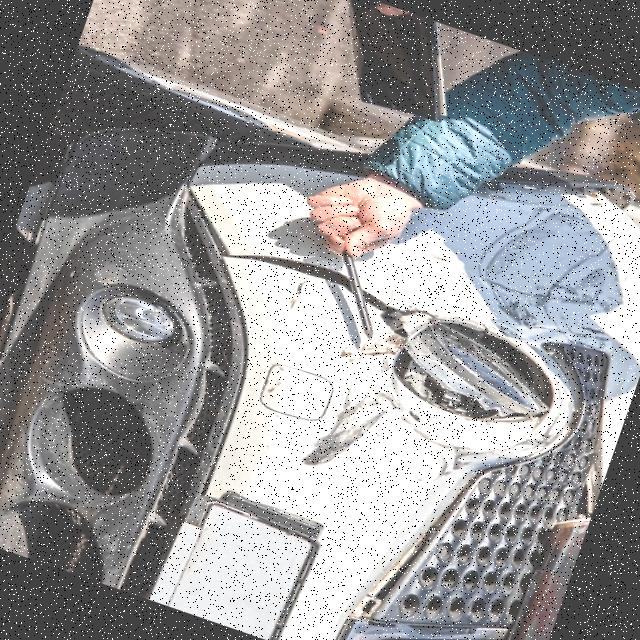Head Light: (238, 220, 624, 500)
